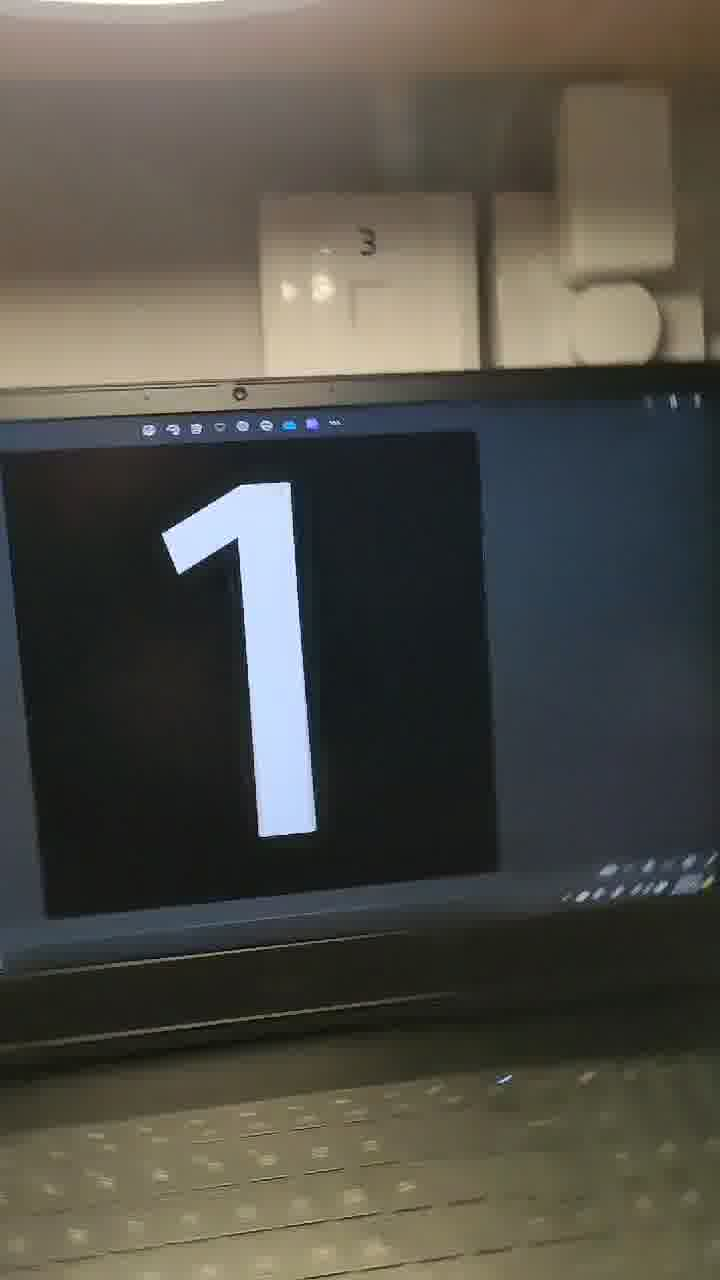one: (104, 421, 402, 857)
